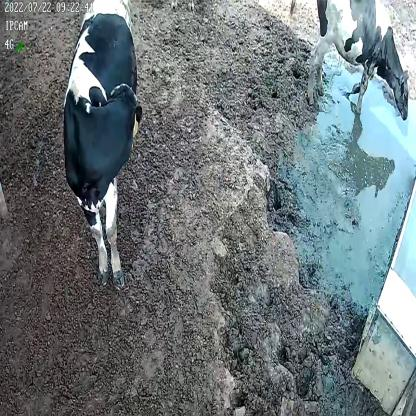cow: (61, 0, 141, 293), (305, 0, 411, 123)
